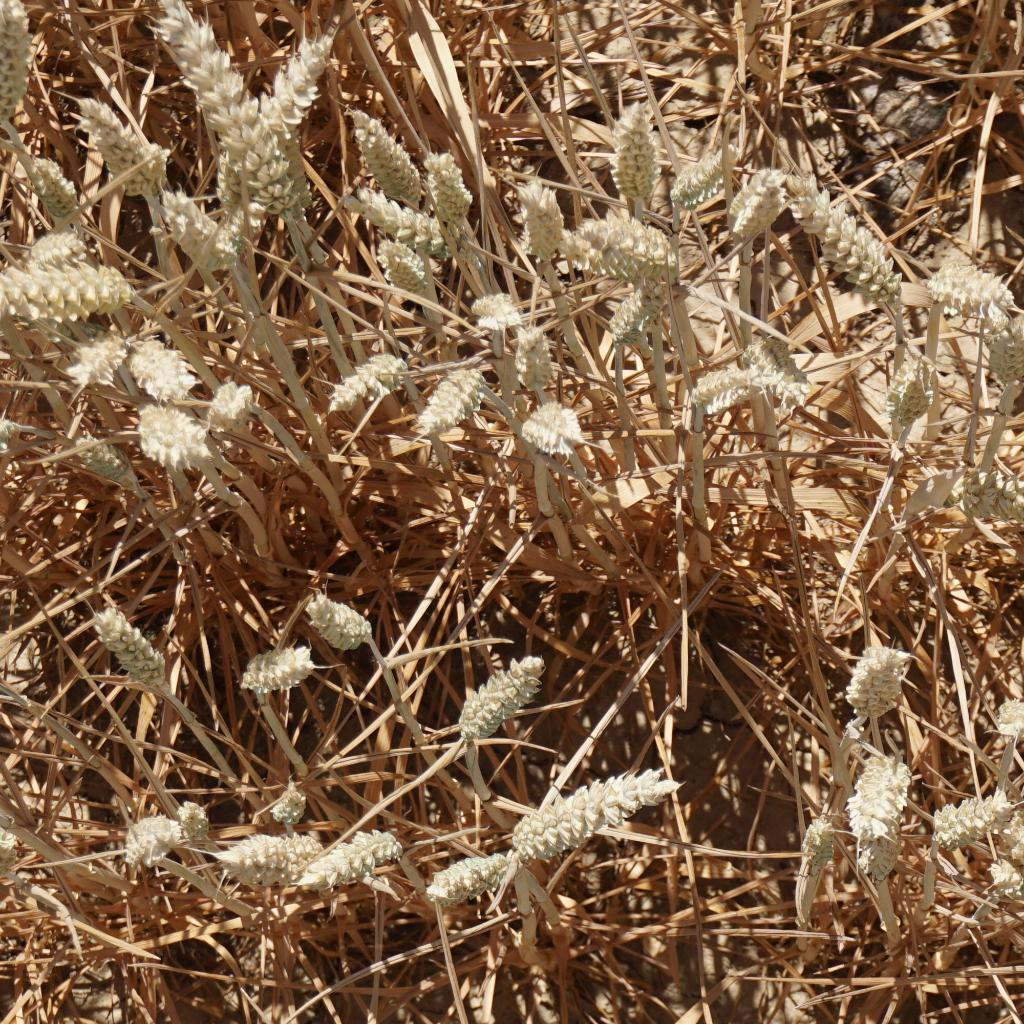0-0: (146, 0, 293, 216), (216, 33, 332, 216), (781, 149, 907, 305), (508, 763, 697, 866), (342, 183, 481, 269), (566, 190, 673, 290), (74, 89, 167, 197), (0, 253, 155, 316), (299, 813, 417, 891), (449, 654, 547, 744), (204, 821, 325, 893), (88, 604, 177, 700), (681, 348, 797, 421), (123, 393, 226, 474), (106, 787, 202, 870), (409, 350, 486, 449), (598, 98, 671, 202), (318, 330, 407, 415), (836, 628, 913, 723), (920, 256, 1024, 326), (514, 163, 572, 275), (67, 419, 148, 499), (413, 848, 519, 909), (669, 136, 750, 215), (16, 146, 93, 229), (149, 173, 218, 265), (844, 756, 915, 844), (601, 270, 678, 351), (417, 149, 492, 230), (739, 327, 812, 410), (878, 354, 943, 446), (344, 106, 421, 183), (206, 189, 275, 274), (4, 219, 97, 282), (0, 0, 43, 132), (296, 589, 384, 653), (718, 153, 787, 234), (488, 314, 557, 393), (230, 633, 311, 698), (516, 386, 586, 460), (120, 340, 204, 401), (374, 228, 437, 297), (62, 325, 125, 391), (966, 462, 1024, 527), (925, 787, 1006, 833), (857, 813, 906, 889), (206, 372, 265, 429), (462, 287, 523, 342), (982, 309, 1024, 384), (796, 813, 840, 878), (0, 397, 29, 484), (260, 772, 311, 819), (977, 848, 1024, 898), (0, 813, 33, 878), (167, 794, 210, 842), (990, 697, 1024, 755), (998, 799, 1024, 872)
